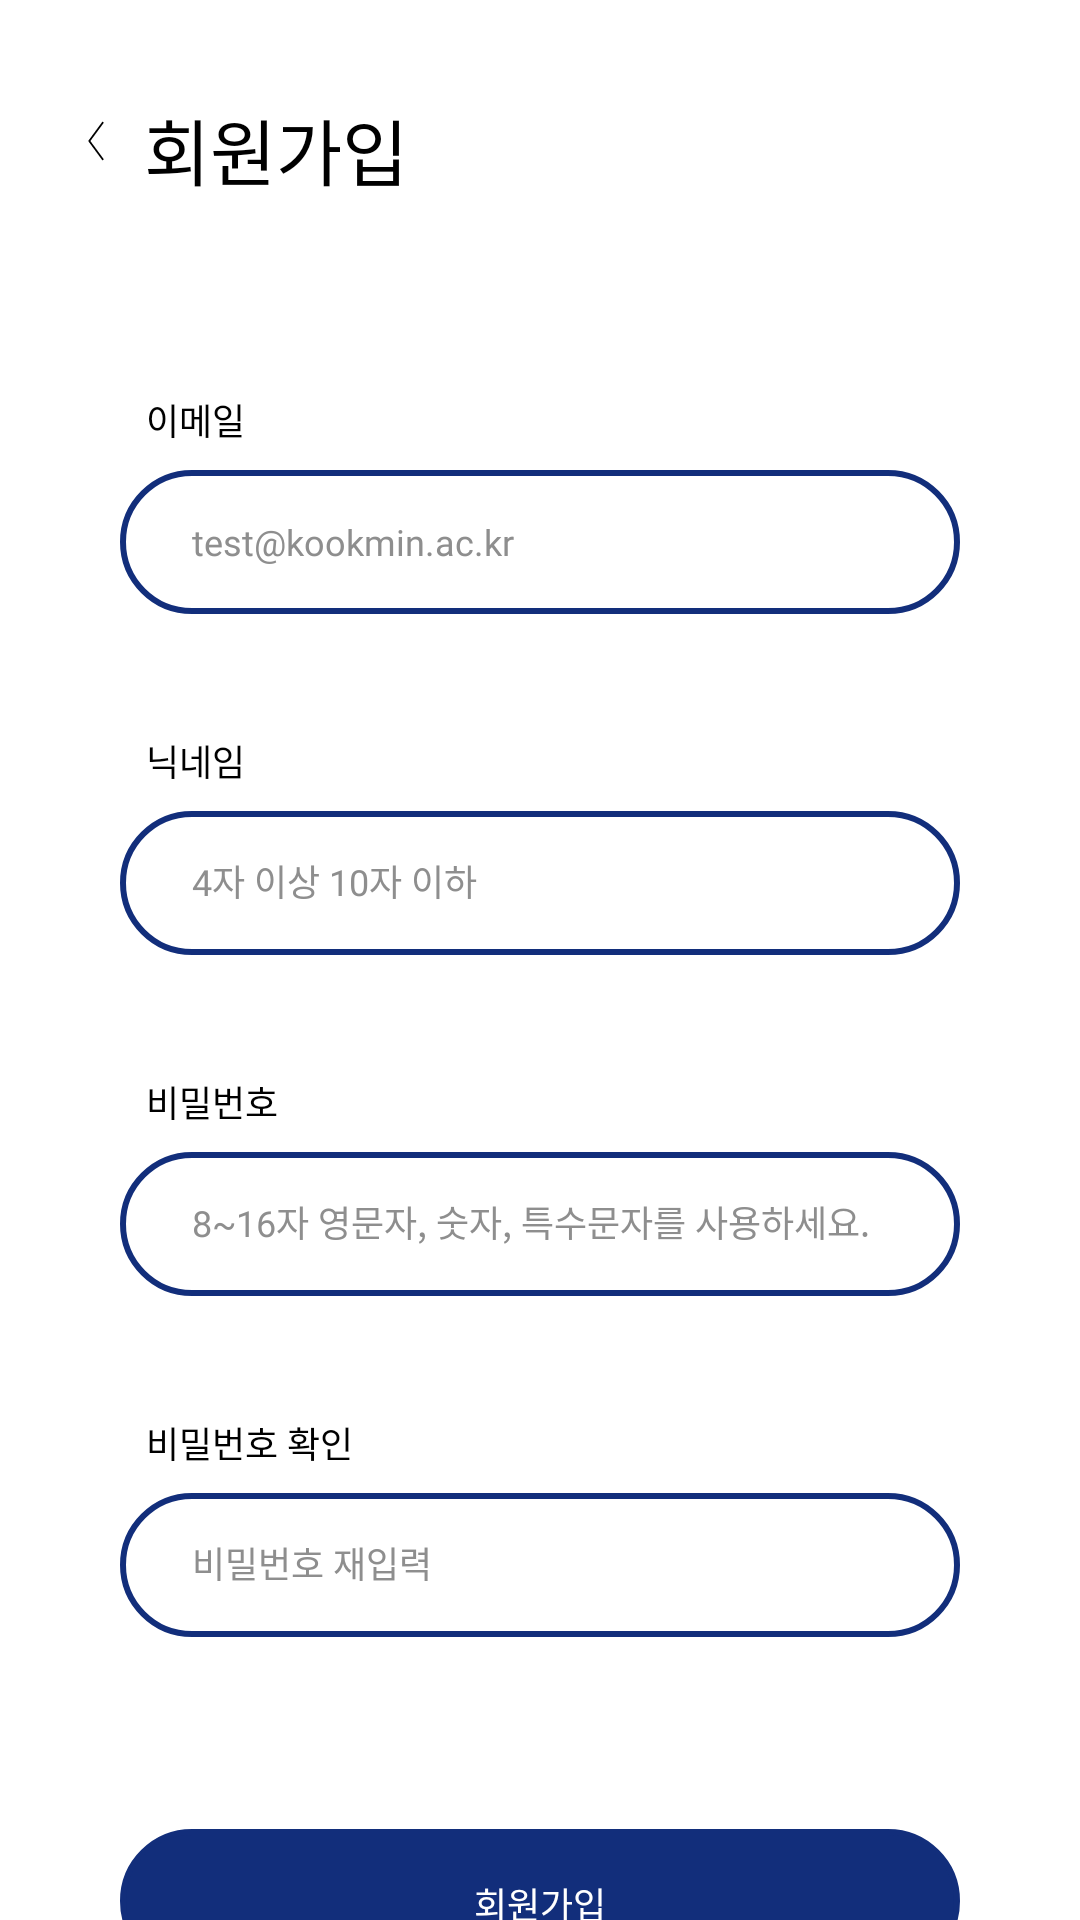

Where icons sit on this 1080px x 1920px app screen, as (x1, y1, x2, y2):
back: (88, 121, 104, 161)
